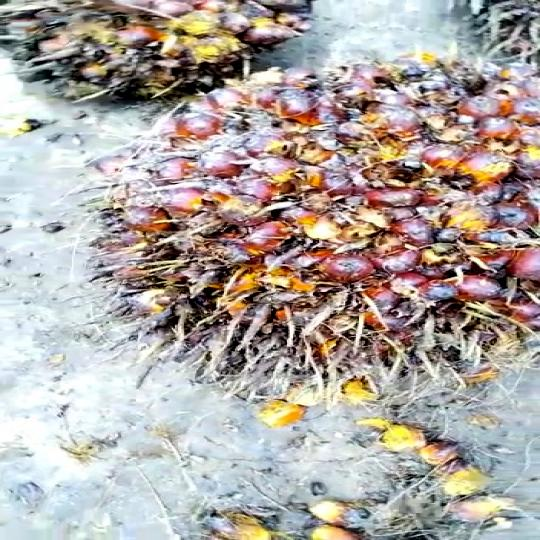masak: (124, 64, 540, 390)
